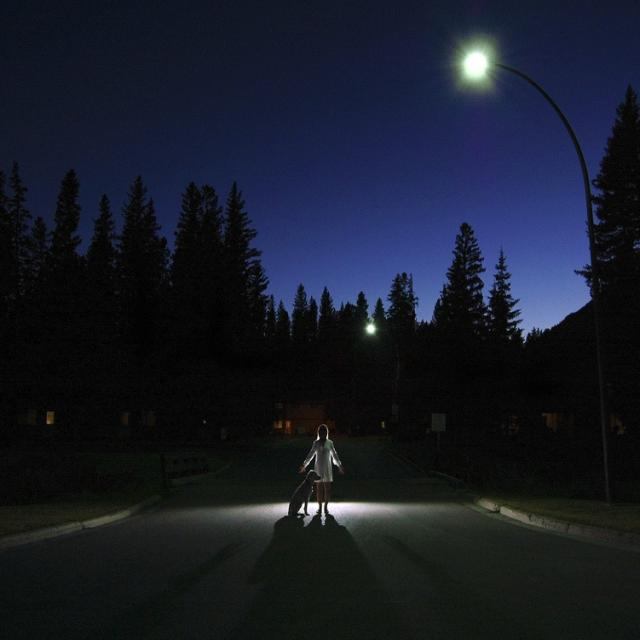People: (314, 381, 351, 533)
dog: (259, 442, 338, 533)
